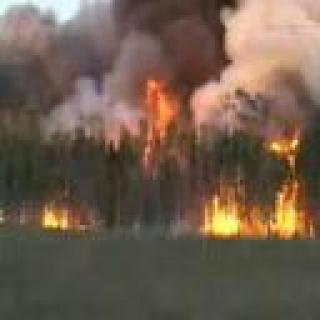fire: (202, 130, 317, 241), (134, 78, 183, 158), (39, 195, 83, 232)
